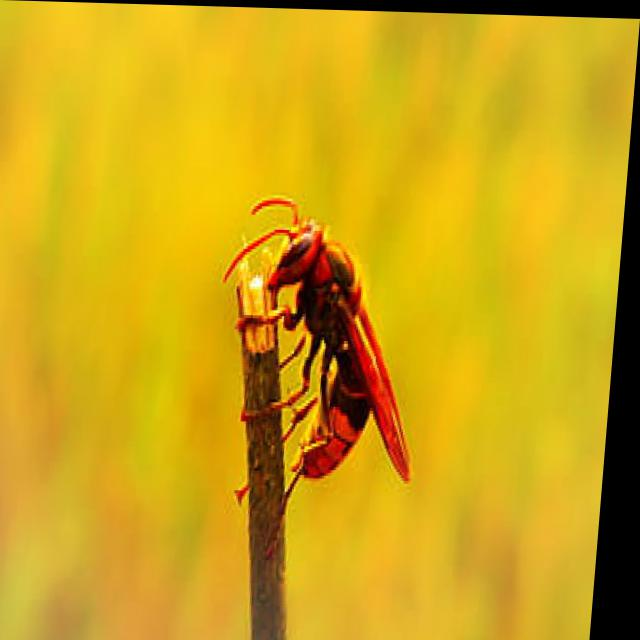Vespa Crabro: (197, 148, 452, 562)
